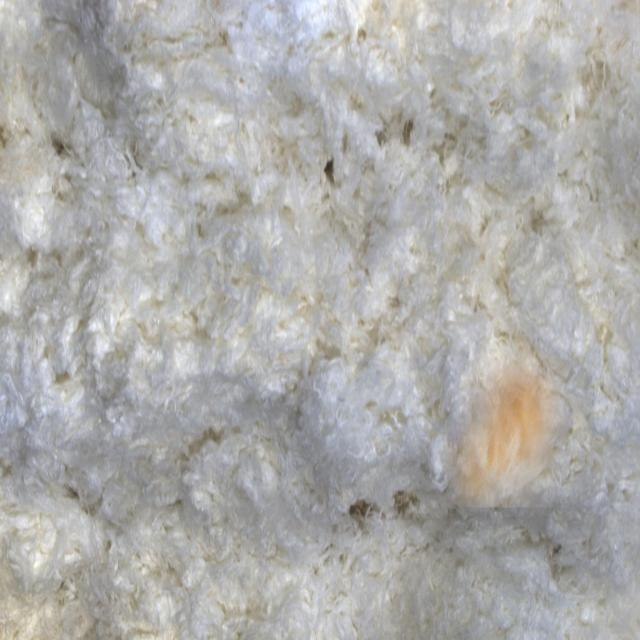dust: (443, 349, 573, 508)
